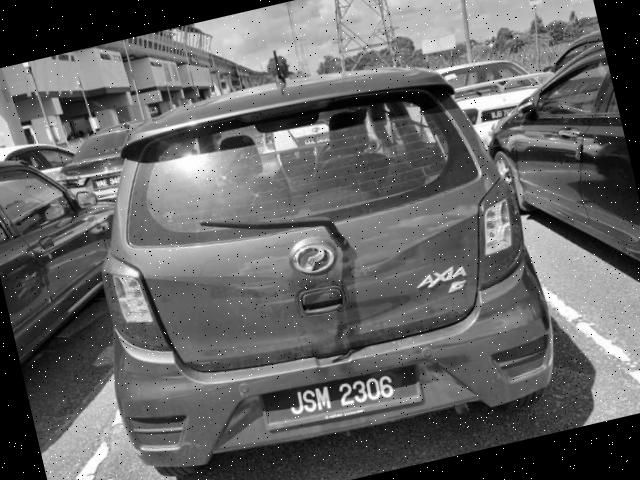License_Plate: (258, 359, 427, 439)
car: (54, 32, 570, 480)
